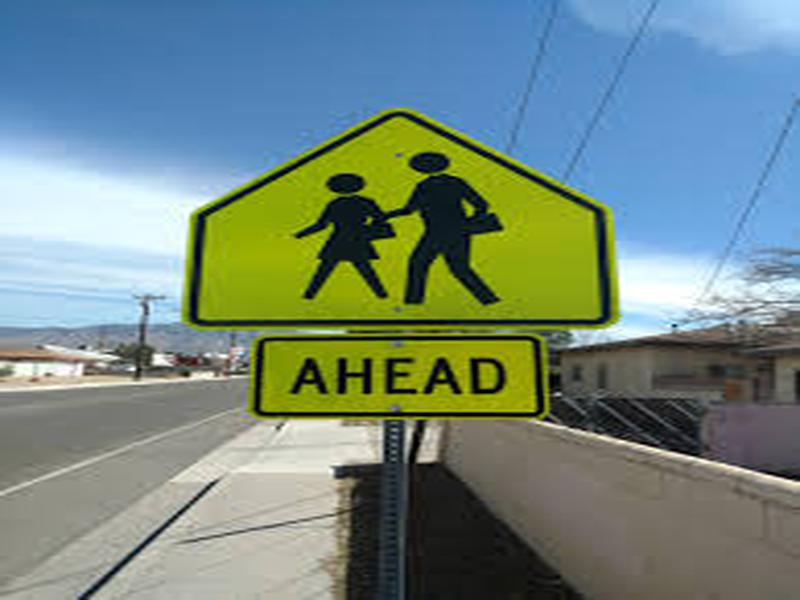slow: (181, 107, 626, 335)
